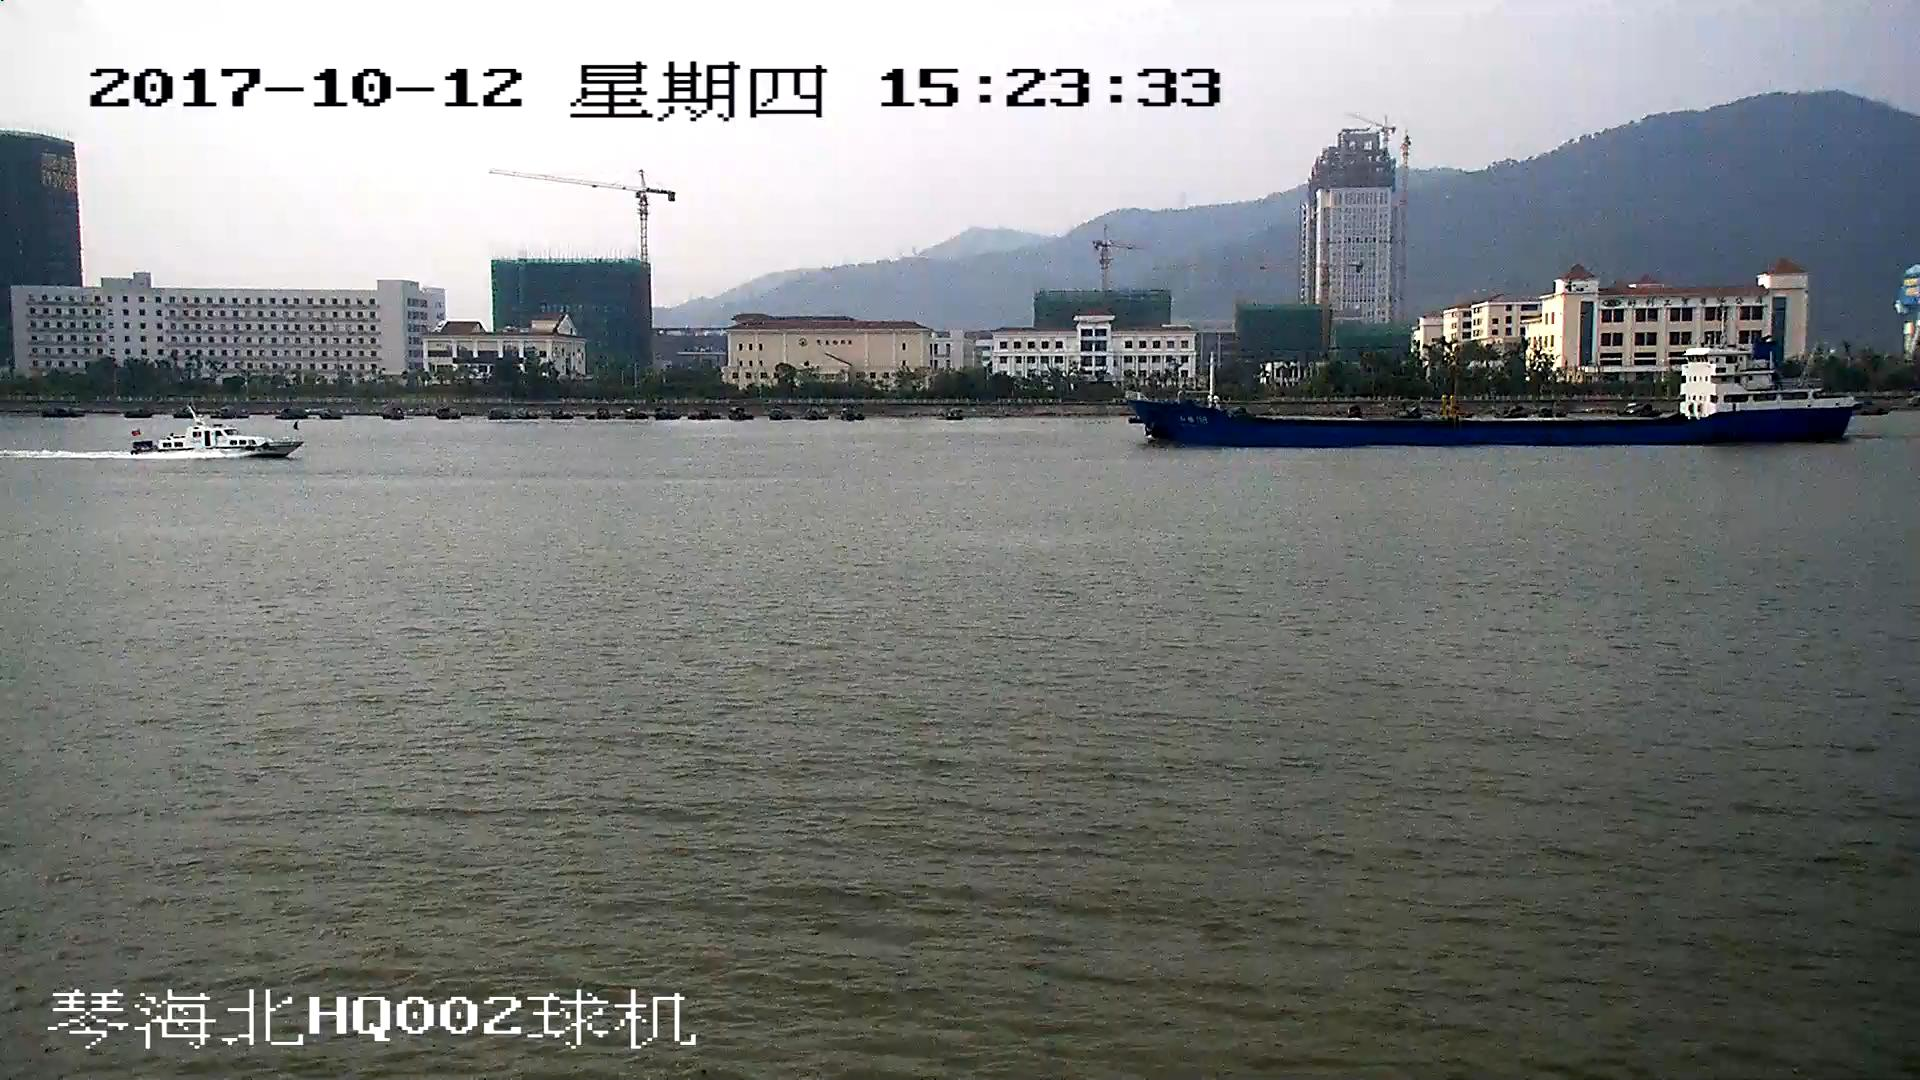bulk cargo carrier: (1133, 319, 1857, 446)
passenger ship: (125, 409, 300, 463)
